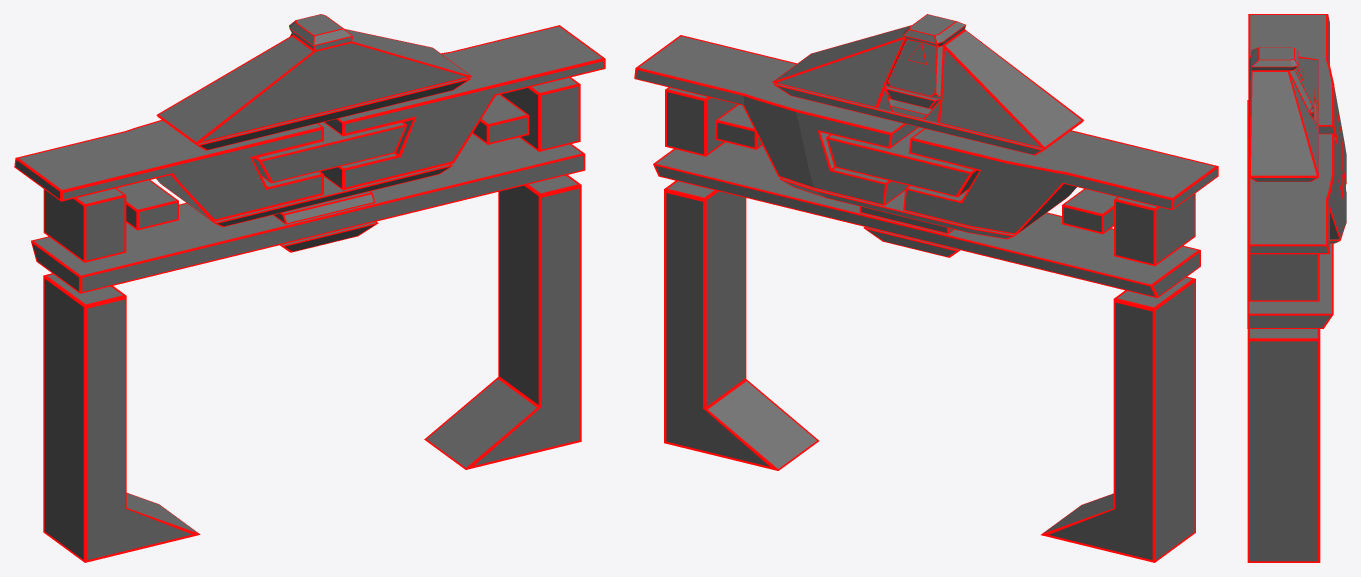
Rendered from tron_1982_recognizer.glb.
3 views of the same model, side by side, from view 1: azimuth 30°, elevation 25°; view 2: azimuth 150°, elevation 25°; view 3: azimuth 270°, elevation 25° (orthographic). The views are drawn at different scales.
Parts seen in each view (by area): view 1: Cube.005; view 2: Cube.005; view 3: Cube.005.
Part boxes in pixels (x1,y1,x2,y2): Cube.005: [14, 14, 605, 562]; Cube.005: [634, 14, 1218, 562]; Cube.005: [1247, 14, 1346, 562].
Bounding box in the file's own units: 0.743 × 0.6063 × 0.1347.
